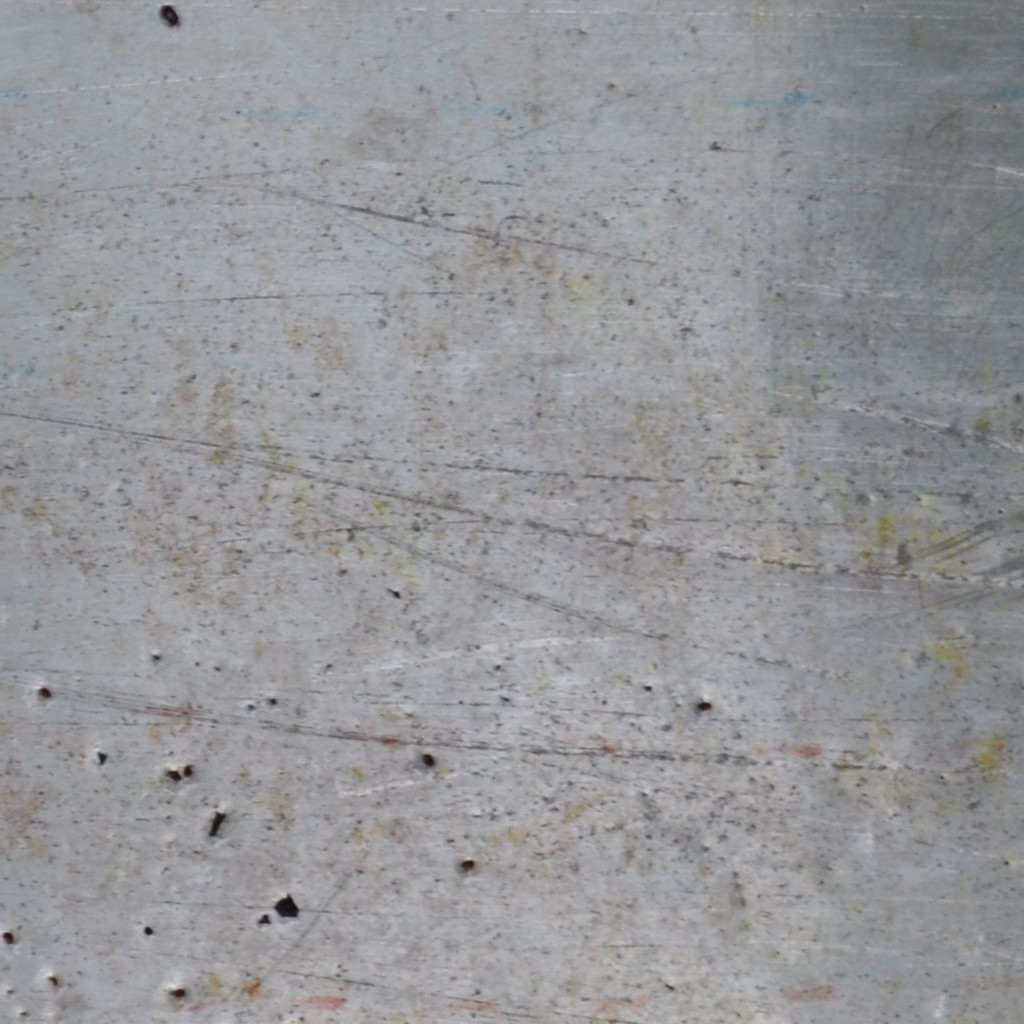varroa: (159, 3, 180, 29), (418, 749, 436, 777), (458, 857, 475, 875), (694, 698, 712, 714), (35, 685, 53, 700), (165, 768, 181, 784), (168, 987, 187, 1000), (141, 922, 156, 938), (1, 929, 14, 947), (181, 763, 194, 780)
